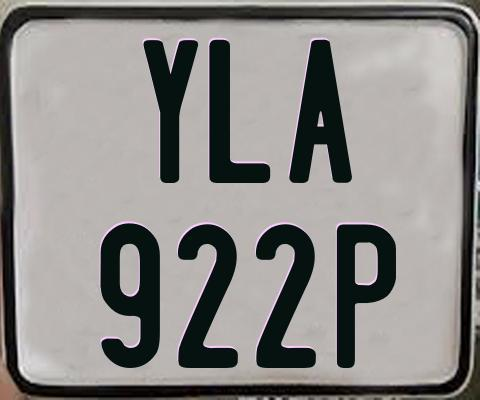2: (255, 222, 318, 368), (178, 224, 238, 369)
9: (100, 221, 163, 366)
A: (288, 38, 357, 186)
L: (209, 39, 271, 188)
P: (335, 224, 400, 373)
Y: (143, 37, 204, 180)
